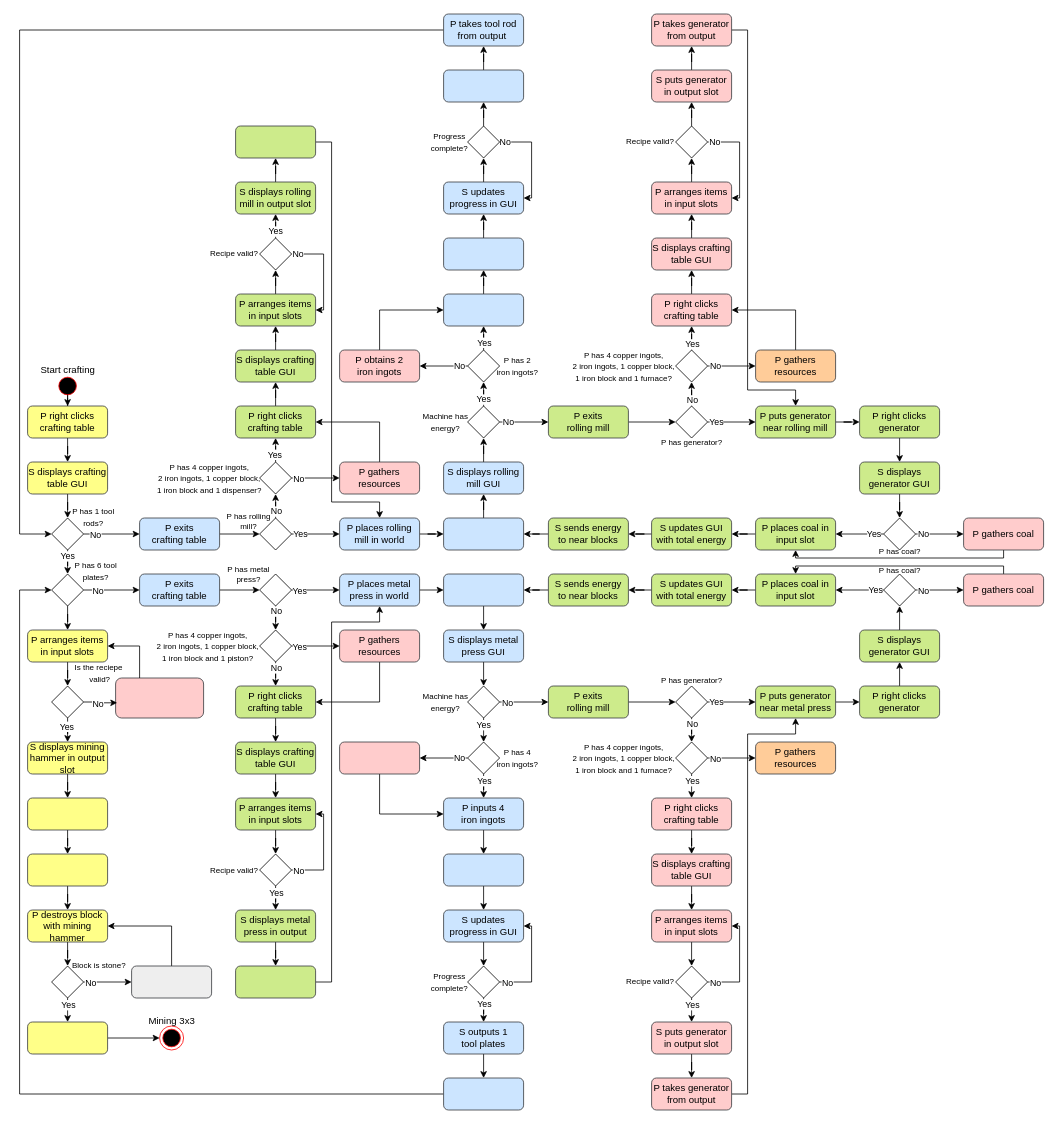
Some shapes in this 1058 by 1124 pixel diagram are drawn without their labels. The shapes that lost their labels are listed below. From the top down, each one's box as (x1, y1, x2, y2) in pixels, then its label:
(443, 69, 524, 102): S outputs 1 tool rod
(235, 125, 316, 158): P takes rolling mill from output slot
(443, 237, 524, 270): S consumes 2 iron ingots
(443, 293, 524, 326): P inputs 2 iron ingots
(443, 517, 524, 550): P right clicks rolling mill
(443, 573, 524, 606): P right clicks metal press
(115, 677, 204, 718): S does not display mining hammer in output slot
(339, 741, 420, 774): P obtains 4 iron ingots
(27, 797, 108, 830): P takes mining hammer from output
(27, 853, 108, 886): P equips mining hammer
(443, 853, 524, 886): S consumes 4 iron ingots
(131, 965, 212, 998): S destroys only that block
(235, 965, 316, 998): P takes metal press from output
(27, 1021, 108, 1054): S destroys all 8 blocks the center one
(443, 1077, 524, 1110): P takes tool plates from output
